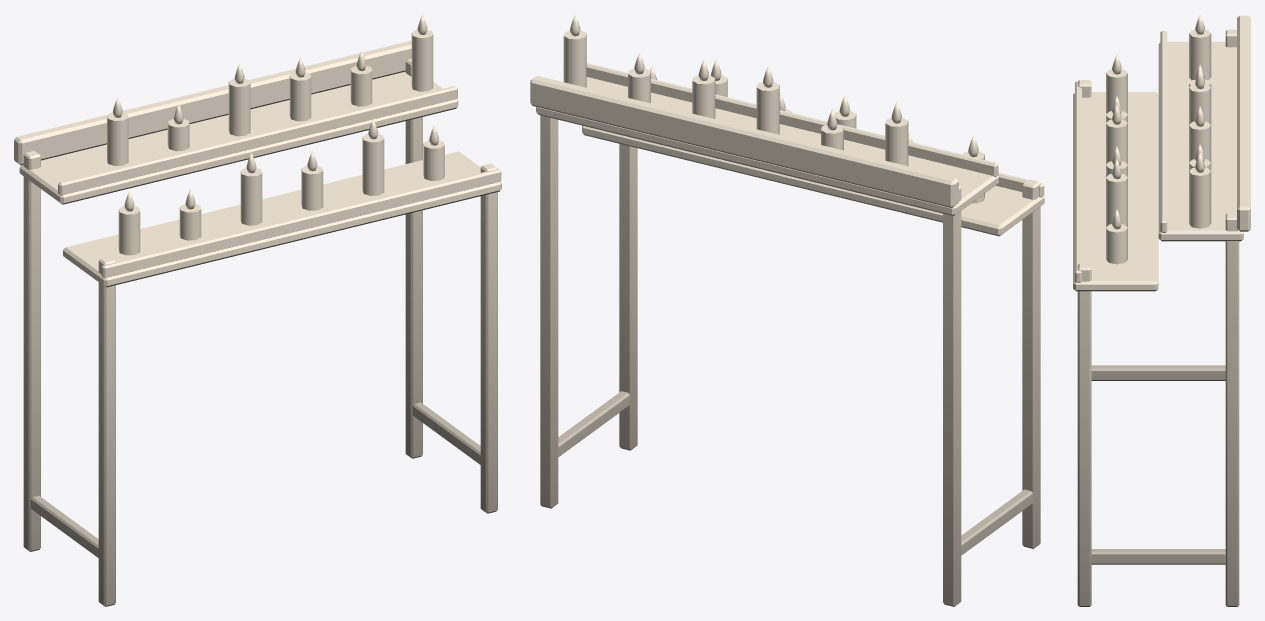
Rendered from SM_VKI_Prop_VotiveRack.fbx.
3 renders of one model, left to right at view 1: azimuth 30°, elevation 25°; view 2: azimuth 150°, elevation 25°; view 3: azimuth 270°, elevation 25°, orthographic. The views are drawn at different scales.
Visible parts, largest first — view 1: SM_VKI_Prop_VotiveRack.001; view 2: SM_VKI_Prop_VotiveRack.001; view 3: SM_VKI_Prop_VotiveRack.001.
Part boxes in pixels (box(x1,y1,x2,y2)): SM_VKI_Prop_VotiveRack.001: box(14, 14, 501, 606); SM_VKI_Prop_VotiveRack.001: box(530, 14, 1044, 606); SM_VKI_Prop_VotiveRack.001: box(1073, 14, 1250, 606).
Size of the model in its own units: 0.99 by 1.07 by 0.385.
